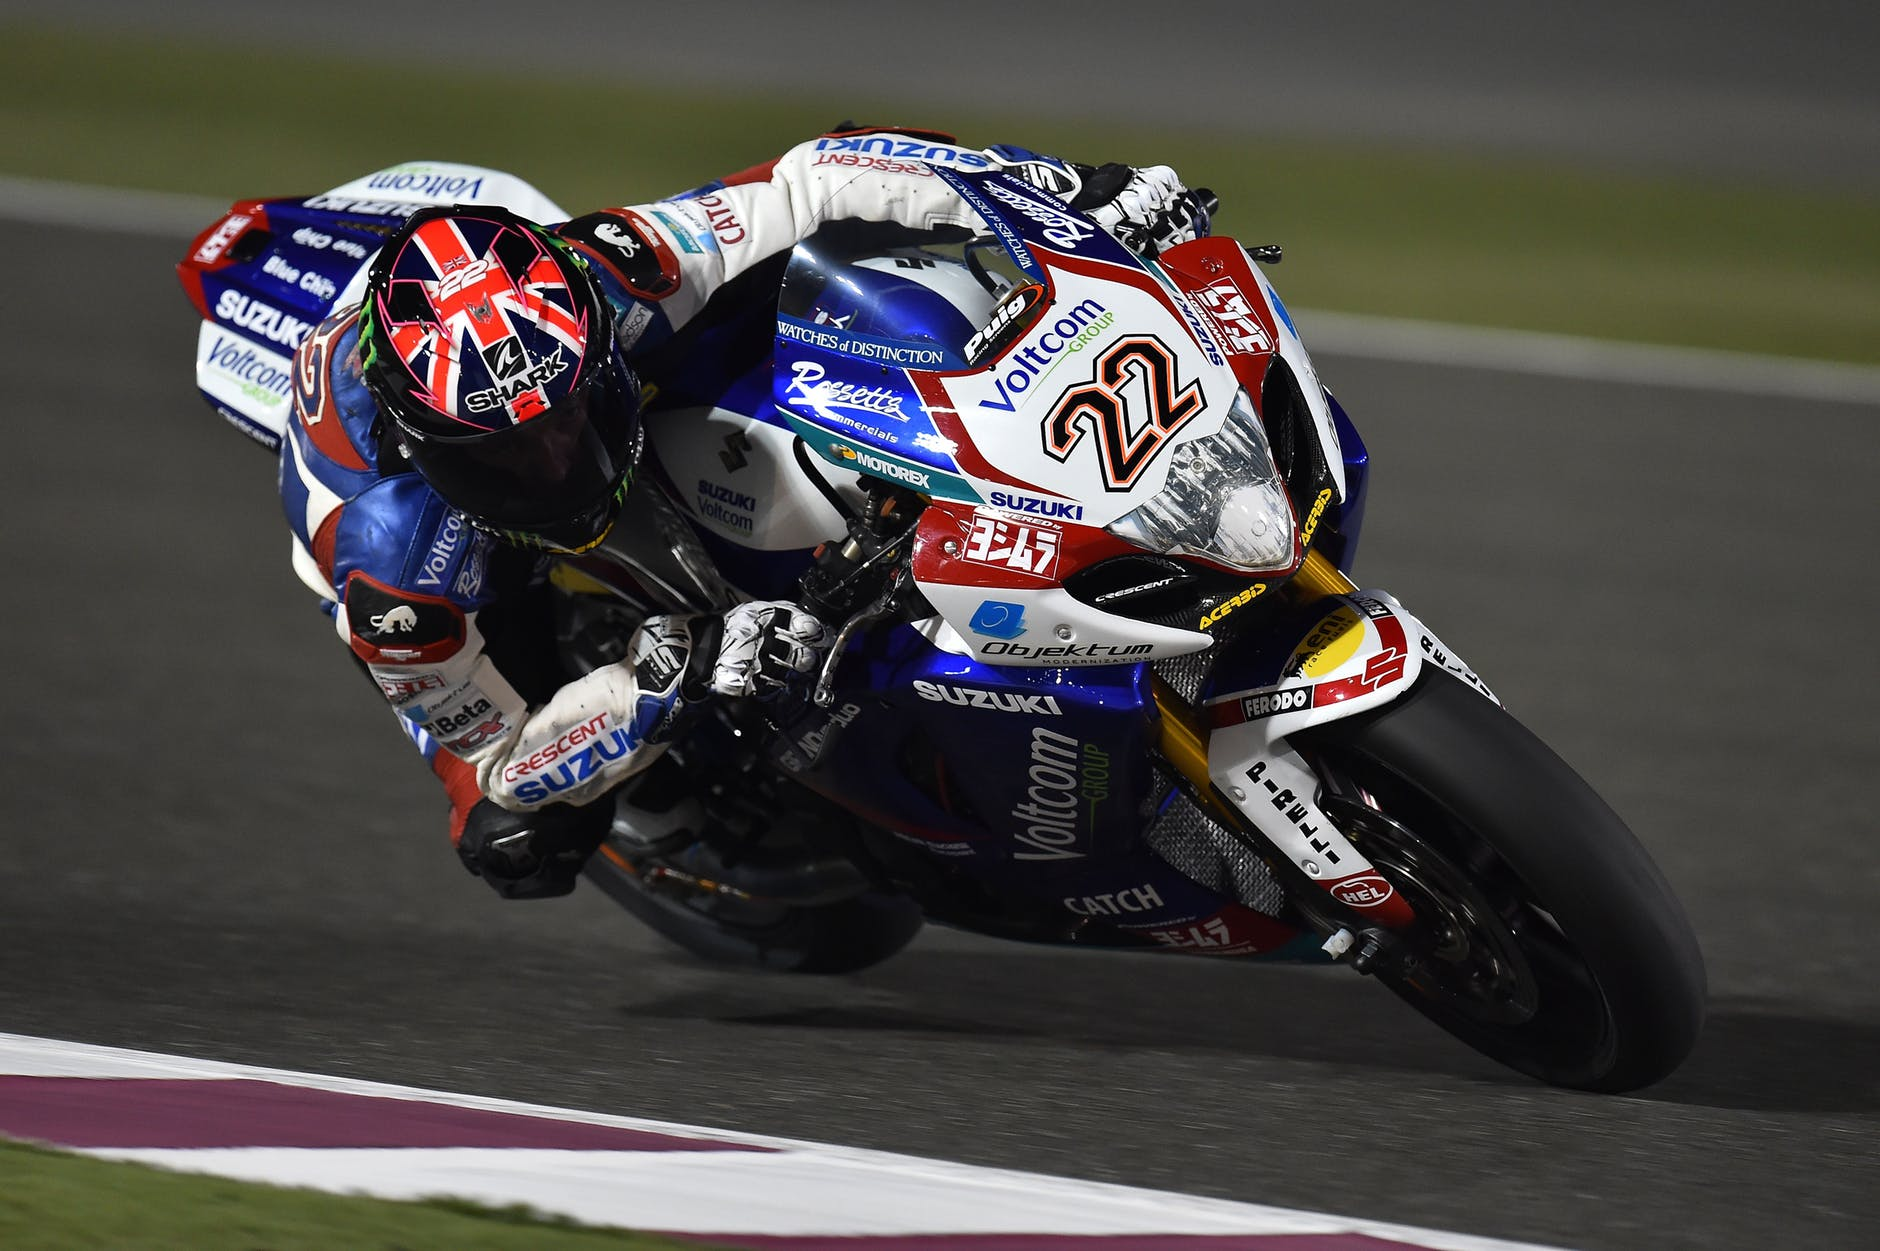helmet: (359, 208, 662, 540)
